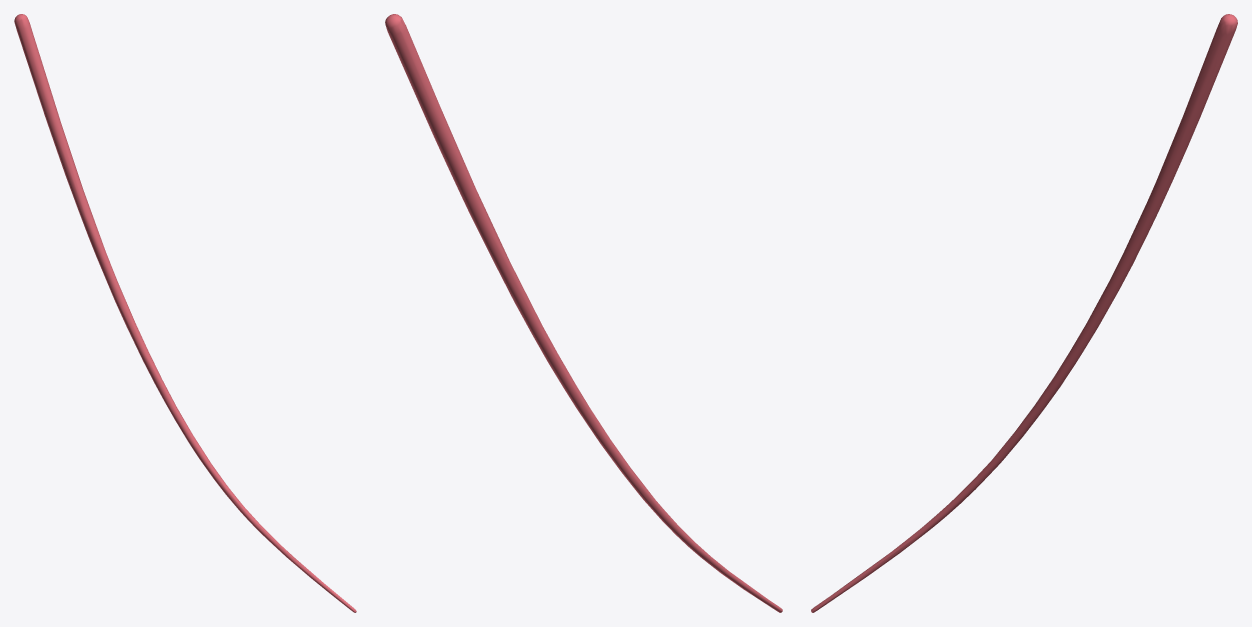
File: fma23055_fj2336.glb
The picture shows the model from 3 angles, left to right: view 1: azimuth 90°, elevation 25°; view 2: azimuth 150°, elevation 25°; view 3: azimuth 270°, elevation 25°; orthographic projection. The views are drawn at different scales.
Visible parts, largest first — view 1: FMA23055_FJ2336; view 2: FMA23055_FJ2336; view 3: FMA23055_FJ2336.
Part boxes in pixels (x1,y1,x2,y2): FMA23055_FJ2336: (14,14,356,612); FMA23055_FJ2336: (385,14,782,612); FMA23055_FJ2336: (811,14,1237,612).
Bounding box in the file's own units: 0.0149 × 0.0593 × 0.0342.
